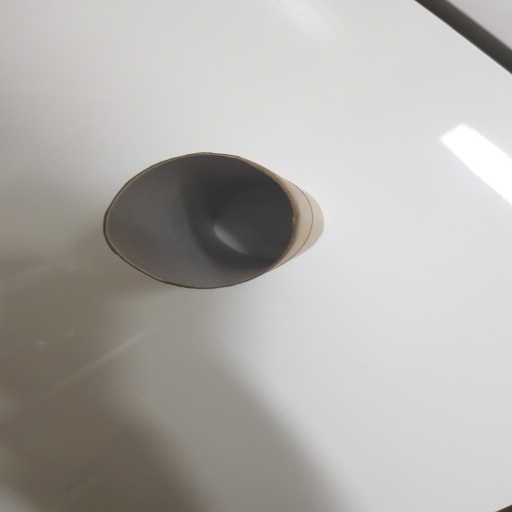Paper_0: (100, 149, 331, 300)
